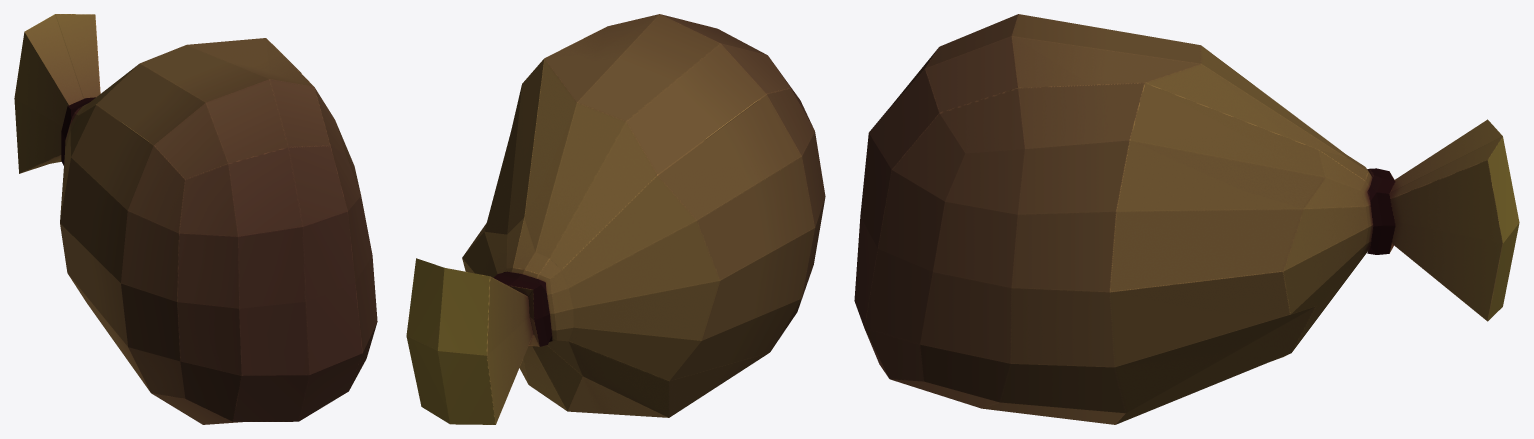
Rendered from toile de jute.fbx.
3 renders of one model, left to right at view 1: azimuth 30°, elevation 25°; view 2: azimuth 150°, elevation 25°; view 3: azimuth 270°, elevation 25°, orthographic. The views are drawn at different scales.
Visible parts, largest first — view 1: Cube; view 2: Cube; view 3: Cube.
Part boxes in pixels (x1=…): Cube: x1=14, y1=14, x2=377, y2=424; Cube: x1=406, y1=14, x2=825, y2=424; Cube: x1=854, y1=14, x2=1519, y2=424.
Size of the model in its own units: 42.88 by 83.3 by 54.97.
Materials: 1 (1 with a texture image).
